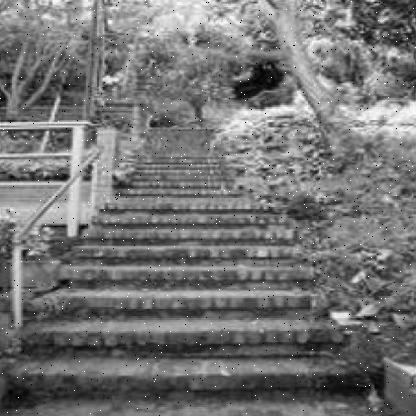stair_up: (47, 182, 342, 382)
